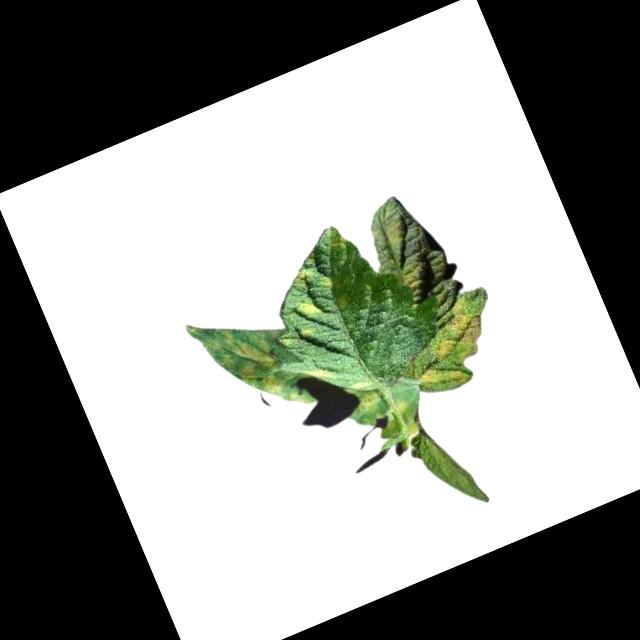Leaf_Mold: (184, 295, 312, 436), (397, 292, 502, 398), (389, 245, 452, 299), (371, 212, 413, 254), (348, 383, 387, 420), (289, 295, 321, 325)
